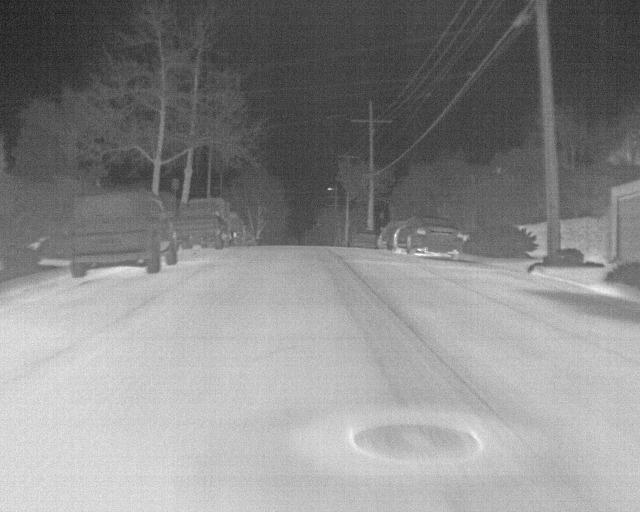car: (68, 190, 177, 278), (392, 217, 465, 260), (175, 198, 228, 249), (227, 212, 247, 246), (376, 219, 391, 250)
